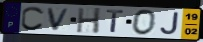C: (20, 5, 46, 32)
H: (76, 7, 103, 35)
J: (159, 12, 180, 36)
O: (131, 9, 158, 37)
T: (105, 9, 126, 34)
V: (46, 8, 72, 32)
